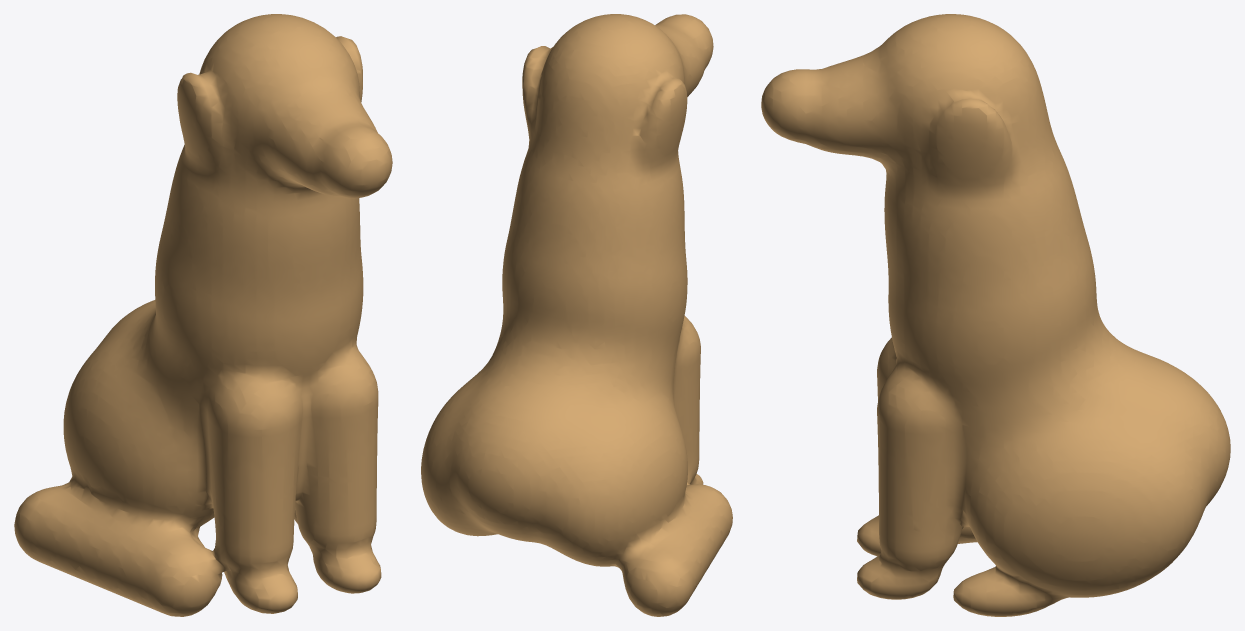
File: pet_dog_photo.glb
3 renders of one model, left to right at view 1: azimuth 30°, elevation 25°; view 2: azimuth 150°, elevation 25°; view 3: azimuth 270°, elevation 25°, orthographic. The views are drawn at different scales.
Parts seen in each view (by area): view 1: pet_sculpture; view 2: pet_sculpture; view 3: pet_sculpture.
Part boxes in pixels (x1,y1,x2,y2): pet_sculpture: [14, 14, 392, 616]; pet_sculpture: [421, 14, 732, 616]; pet_sculpture: [761, 14, 1230, 616].
Size of the model in its own units: 0.5038 by 0.9121 by 0.6844.
